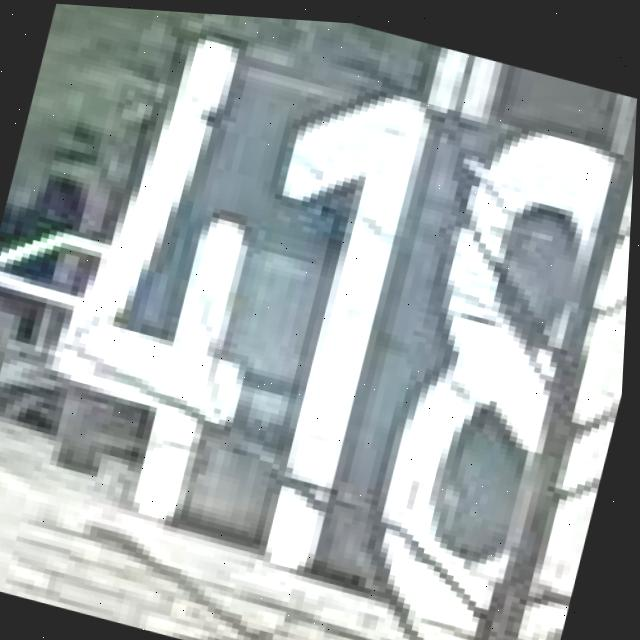character: (4, 2, 348, 555), (347, 101, 636, 640), (182, 56, 453, 587)
